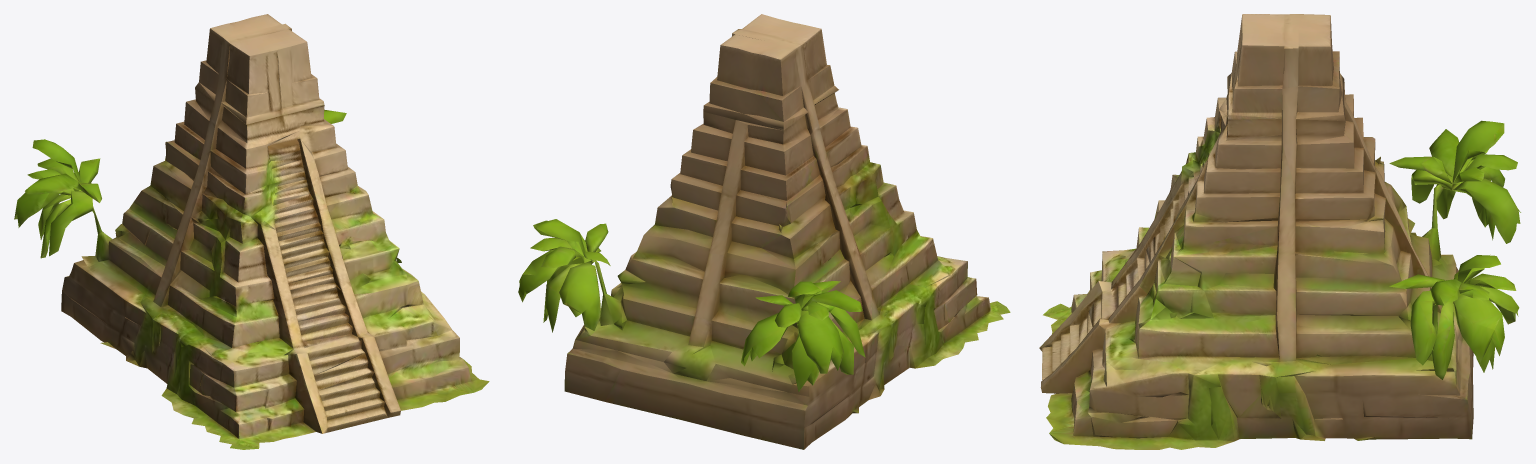
File: m2StepPyramidBg.glb
The picture shows the model from 3 angles, left to right: view 1: azimuth 30°, elevation 25°; view 2: azimuth 150°, elevation 25°; view 3: azimuth 270°, elevation 25°; orthographic projection. The views are drawn at different scales.
Parts seen in each view (by area): view 1: model; view 2: model; view 3: model.
Boxes of the visible parts, bbox=[...] form: model: bbox=[14, 14, 489, 449]; model: bbox=[518, 14, 1010, 449]; model: bbox=[1039, 14, 1520, 449].
Bounding box in the file's own units: 1.62 × 1.5 × 1.9.
1 material, 1 textured.
